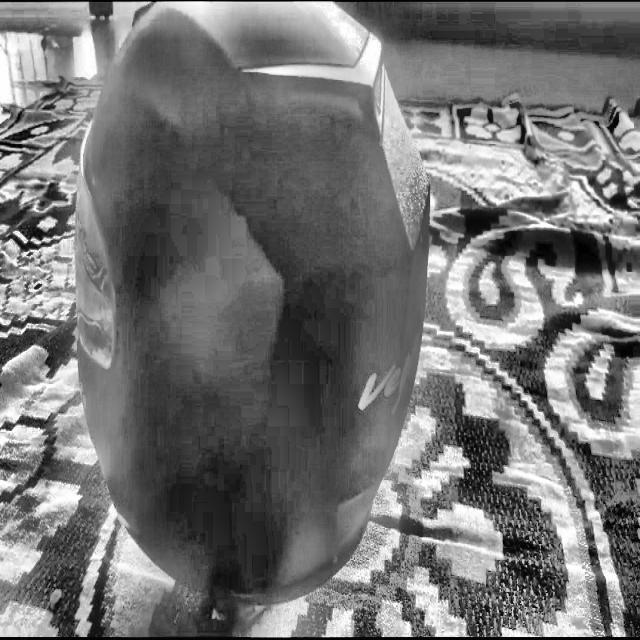Helmet: (73, 0, 430, 615)
